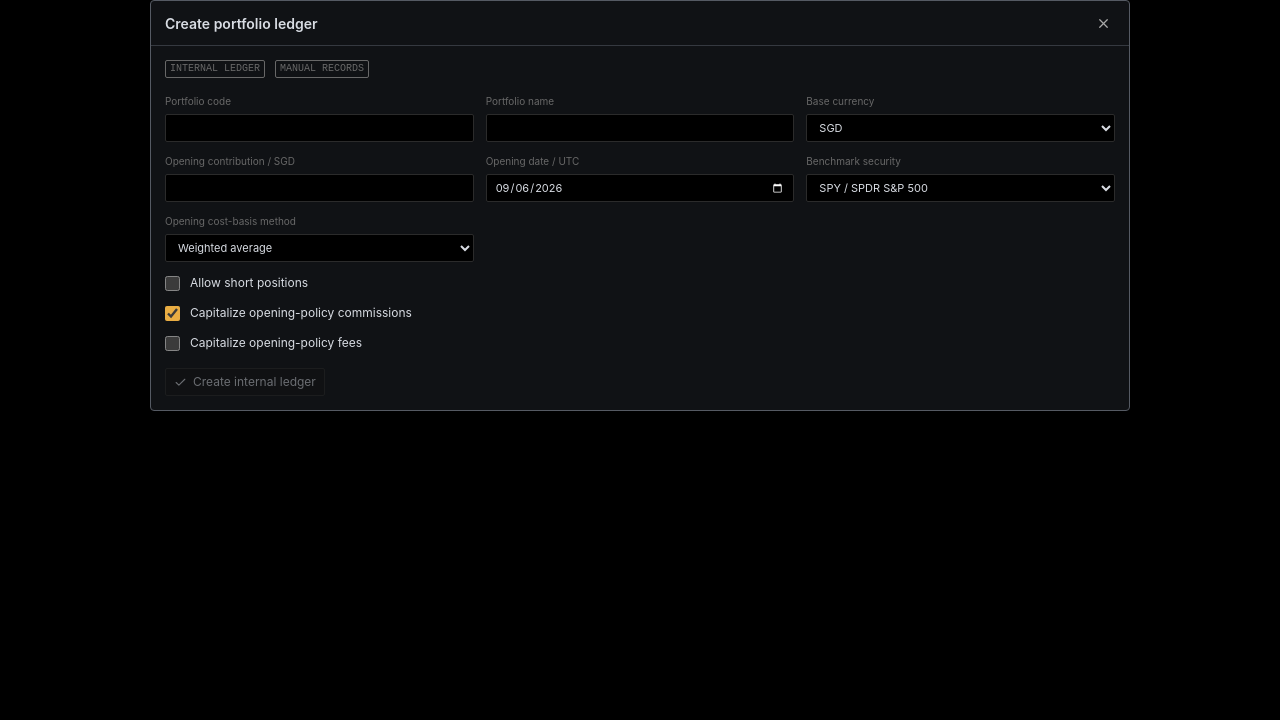
explicit portfolio creation › preserves the draft when a duplicate code or storage boundary is rejected
Type "research" into the field labelled "Portfolio code" at (319, 128), box [165,114,474,142]
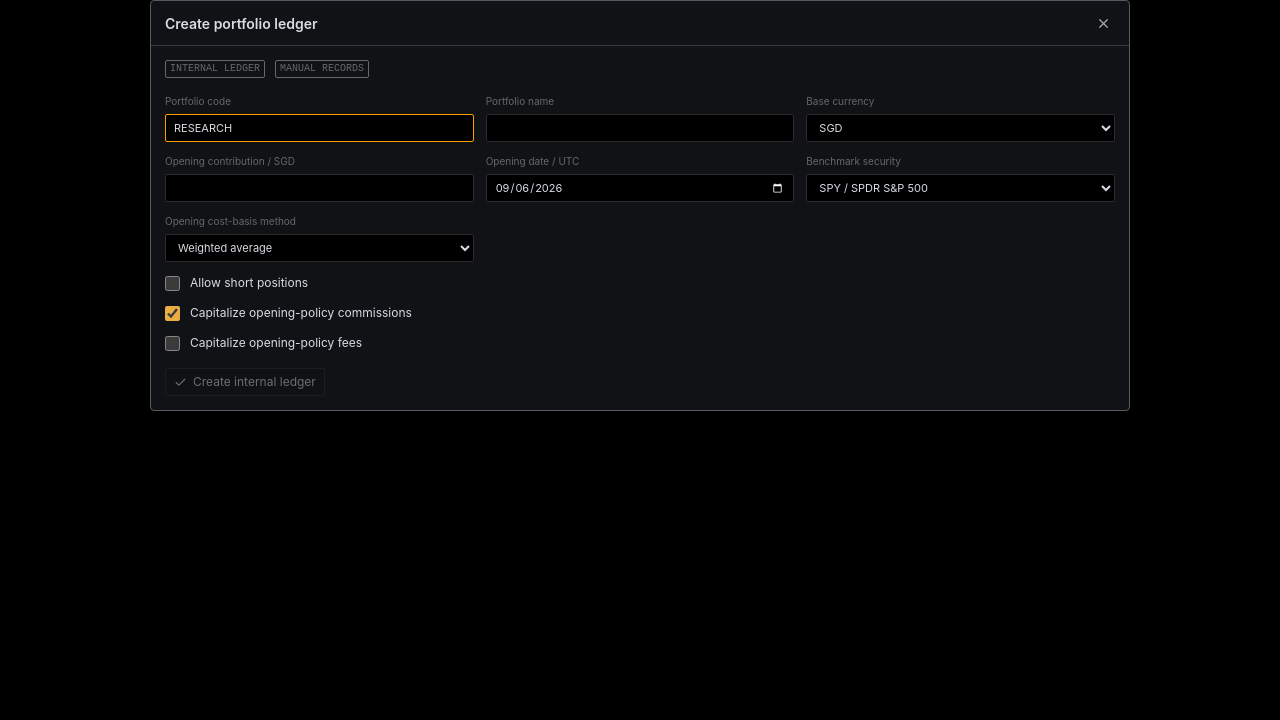
Type "Research allocation" into the field labelled "Portfolio name" at (640, 128), box [486,114,794,142]
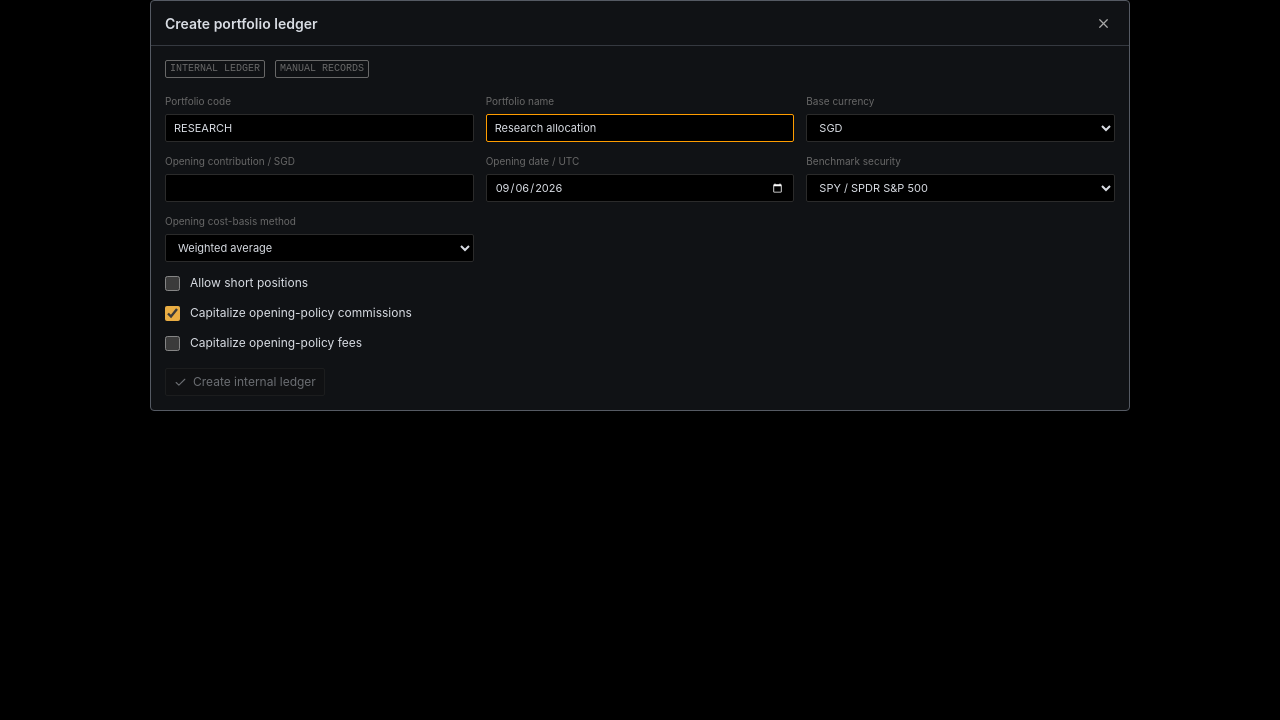
Type "1000.12345678" into the number field labelled "Opening contribution" at (319, 188), box [165,174,474,202]
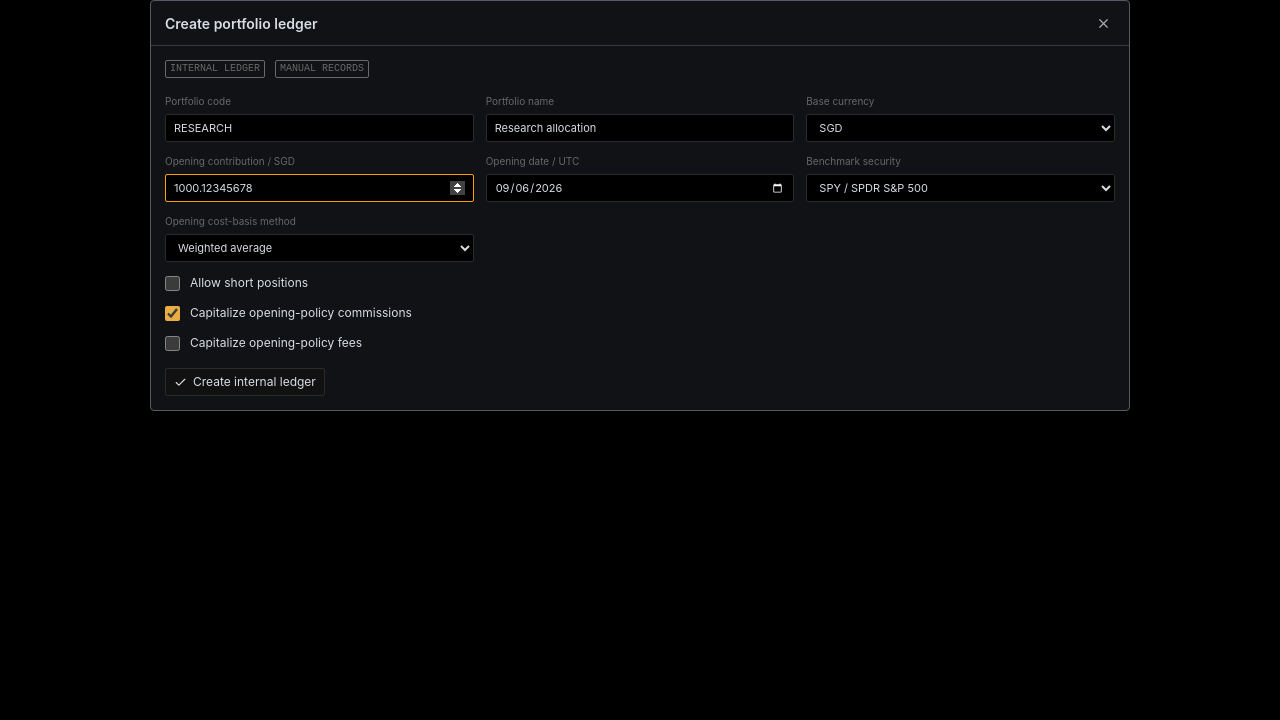
Click the button "Create internal ledger" at (245, 382), box [165,368,325,396]
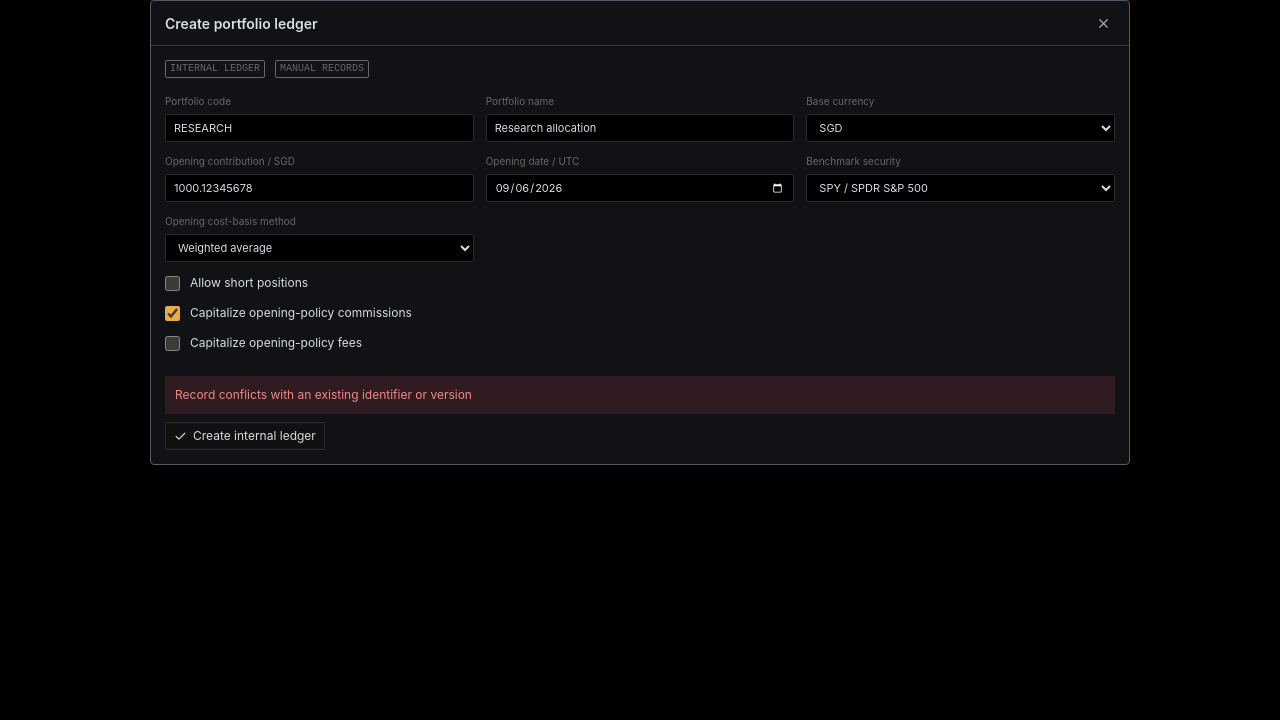
expect the button "Create internal ledger" is enabled: met, box [165,422,325,450]
expect the message shows "Record conflicts": met, box [175,387,472,402]
